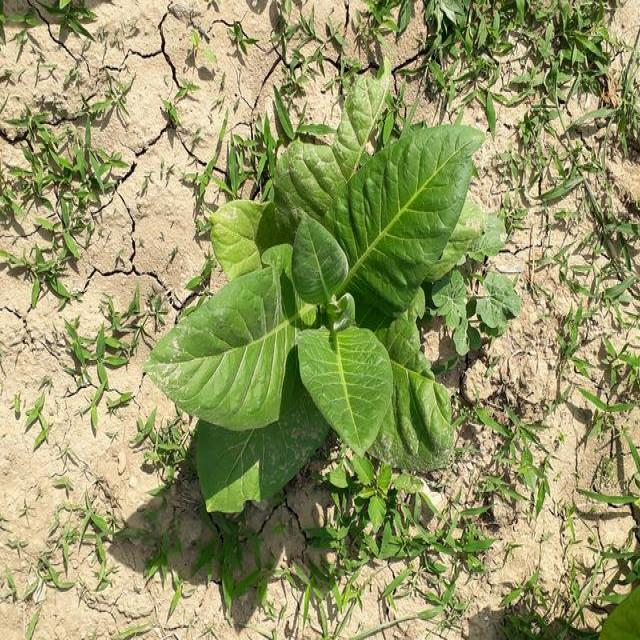crop: (153, 92, 459, 508)
